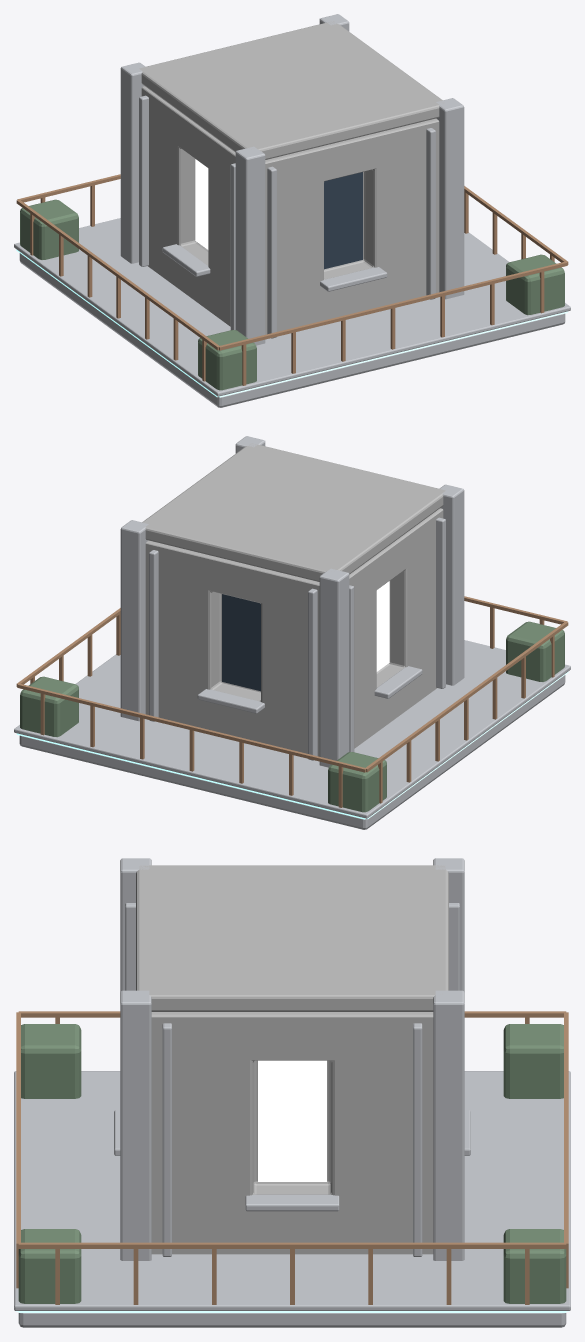
The model's file is transfer_3x3_2x2_concrete.glb.
The picture shows the model from 3 angles, top to bottom: view 1: azimuth 30°, elevation 25°; view 2: azimuth 150°, elevation 25°; view 3: azimuth 270°, elevation 25°; orthographic projection. The views are drawn at different scales.
Visible parts, largest first — view 1: ext_wall, int_ceiling, int_slab_edge, int_columns, ext_deck_rail, ext_deck_plants, ext_frames, int_slab, ext_panes_dark, ext_panes_lit, ext_deck_glow; view 2: ext_wall, int_ceiling, int_slab_edge, int_columns, ext_deck_rail, ext_deck_plants, ext_frames, int_slab, ext_panes_dark, ext_panes_lit, ext_deck_glow; view 3: int_slab_edge, ext_wall, int_ceiling, int_columns, ext_deck_plants, ext_deck_rail, ext_frames, ext_panes_lit, int_slab, ext_deck_glow.
Part boxes in pixels (left/top/right/bottom): ext_wall: left=141, top=86, right=439, bottom=334; int_ceiling: left=139, top=21, right=443, bottom=159; int_slab_edge: left=14, top=218, right=570, bottom=396; int_columns: left=120, top=14, right=464, bottom=345; ext_deck_rail: left=16, top=174, right=568, bottom=385; ext_deck_plants: left=20, top=199, right=564, bottom=390; ext_frames: left=139, top=95, right=435, bottom=338; int_slab: left=19, top=253, right=565, bottom=407; ext_panes_dark: left=324, top=172, right=362, bottom=269; ext_panes_lit: left=195, top=159, right=208, bottom=249; ext_deck_glow: left=16, top=249, right=568, bottom=397; ext_wall: left=145, top=508, right=443, bottom=756; int_ceiling: left=142, top=443, right=445, bottom=581; int_slab_edge: left=14, top=640, right=570, bottom=818; int_columns: left=120, top=436, right=464, bottom=767; ext_deck_rail: left=16, top=596, right=568, bottom=807; ext_deck_plants: left=20, top=621, right=564, bottom=812; ext_frames: left=149, top=517, right=445, bottom=760; int_slab: left=19, top=675, right=565, bottom=829; ext_panes_dark: left=222, top=594, right=260, bottom=691; ext_panes_lit: left=376, top=581, right=389, bottom=671; ext_deck_glow: left=16, top=671, right=568, bottom=819; int_slab_edge: left=14, top=1071, right=570, bottom=1310; ext_wall: left=151, top=1012, right=433, bottom=1254; int_ceiling: left=136, top=865, right=448, bottom=1011; int_columns: left=120, top=858, right=464, bottom=1260; ext_deck_plants: left=18, top=1024, right=566, bottom=1303; ext_deck_rail: left=16, top=1011, right=568, bottom=1304; ext_frames: left=114, top=903, right=470, bottom=1256; ext_panes_lit: left=258, top=1060, right=326, bottom=1181; int_slab: left=18, top=1313, right=566, bottom=1327; ext_deck_glow: left=15, top=1311, right=569, bottom=1312.
Size of the model in its own units: 3.56 by 2 by 3.56.
